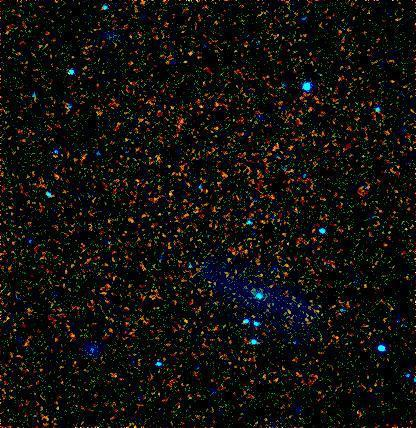star: (99, 359, 129, 389)
